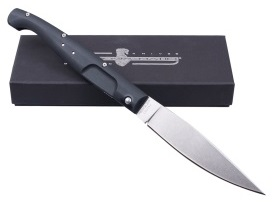knife: (131, 93, 268, 198)
